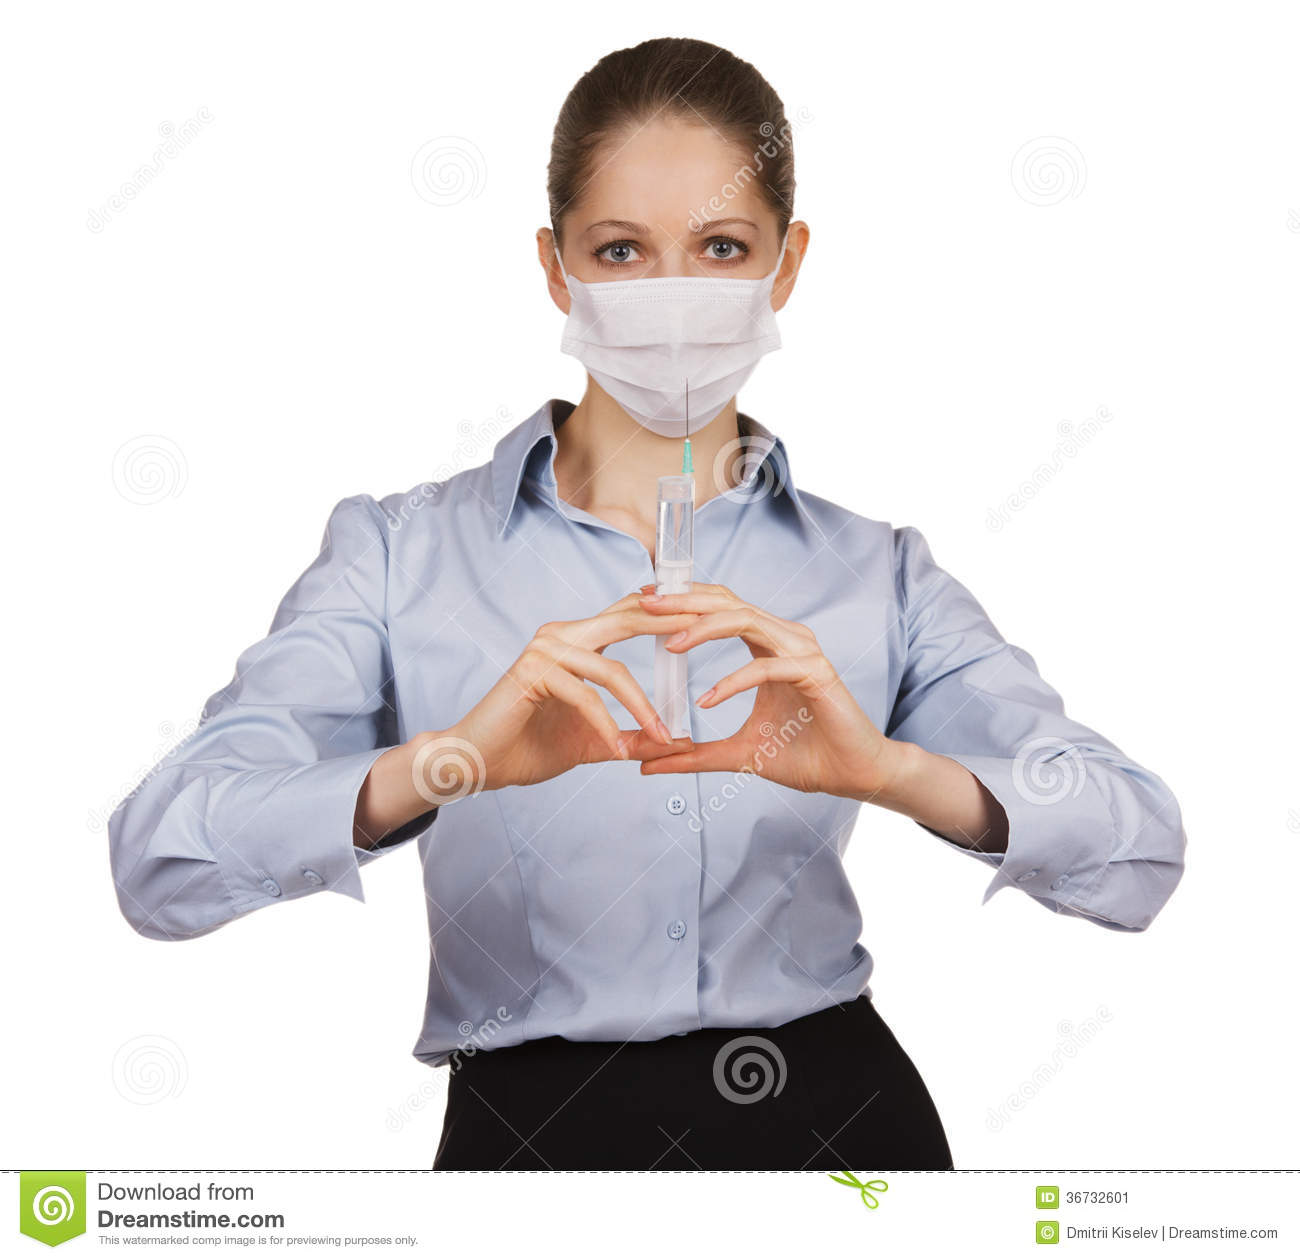mask: (559, 277, 772, 443)
